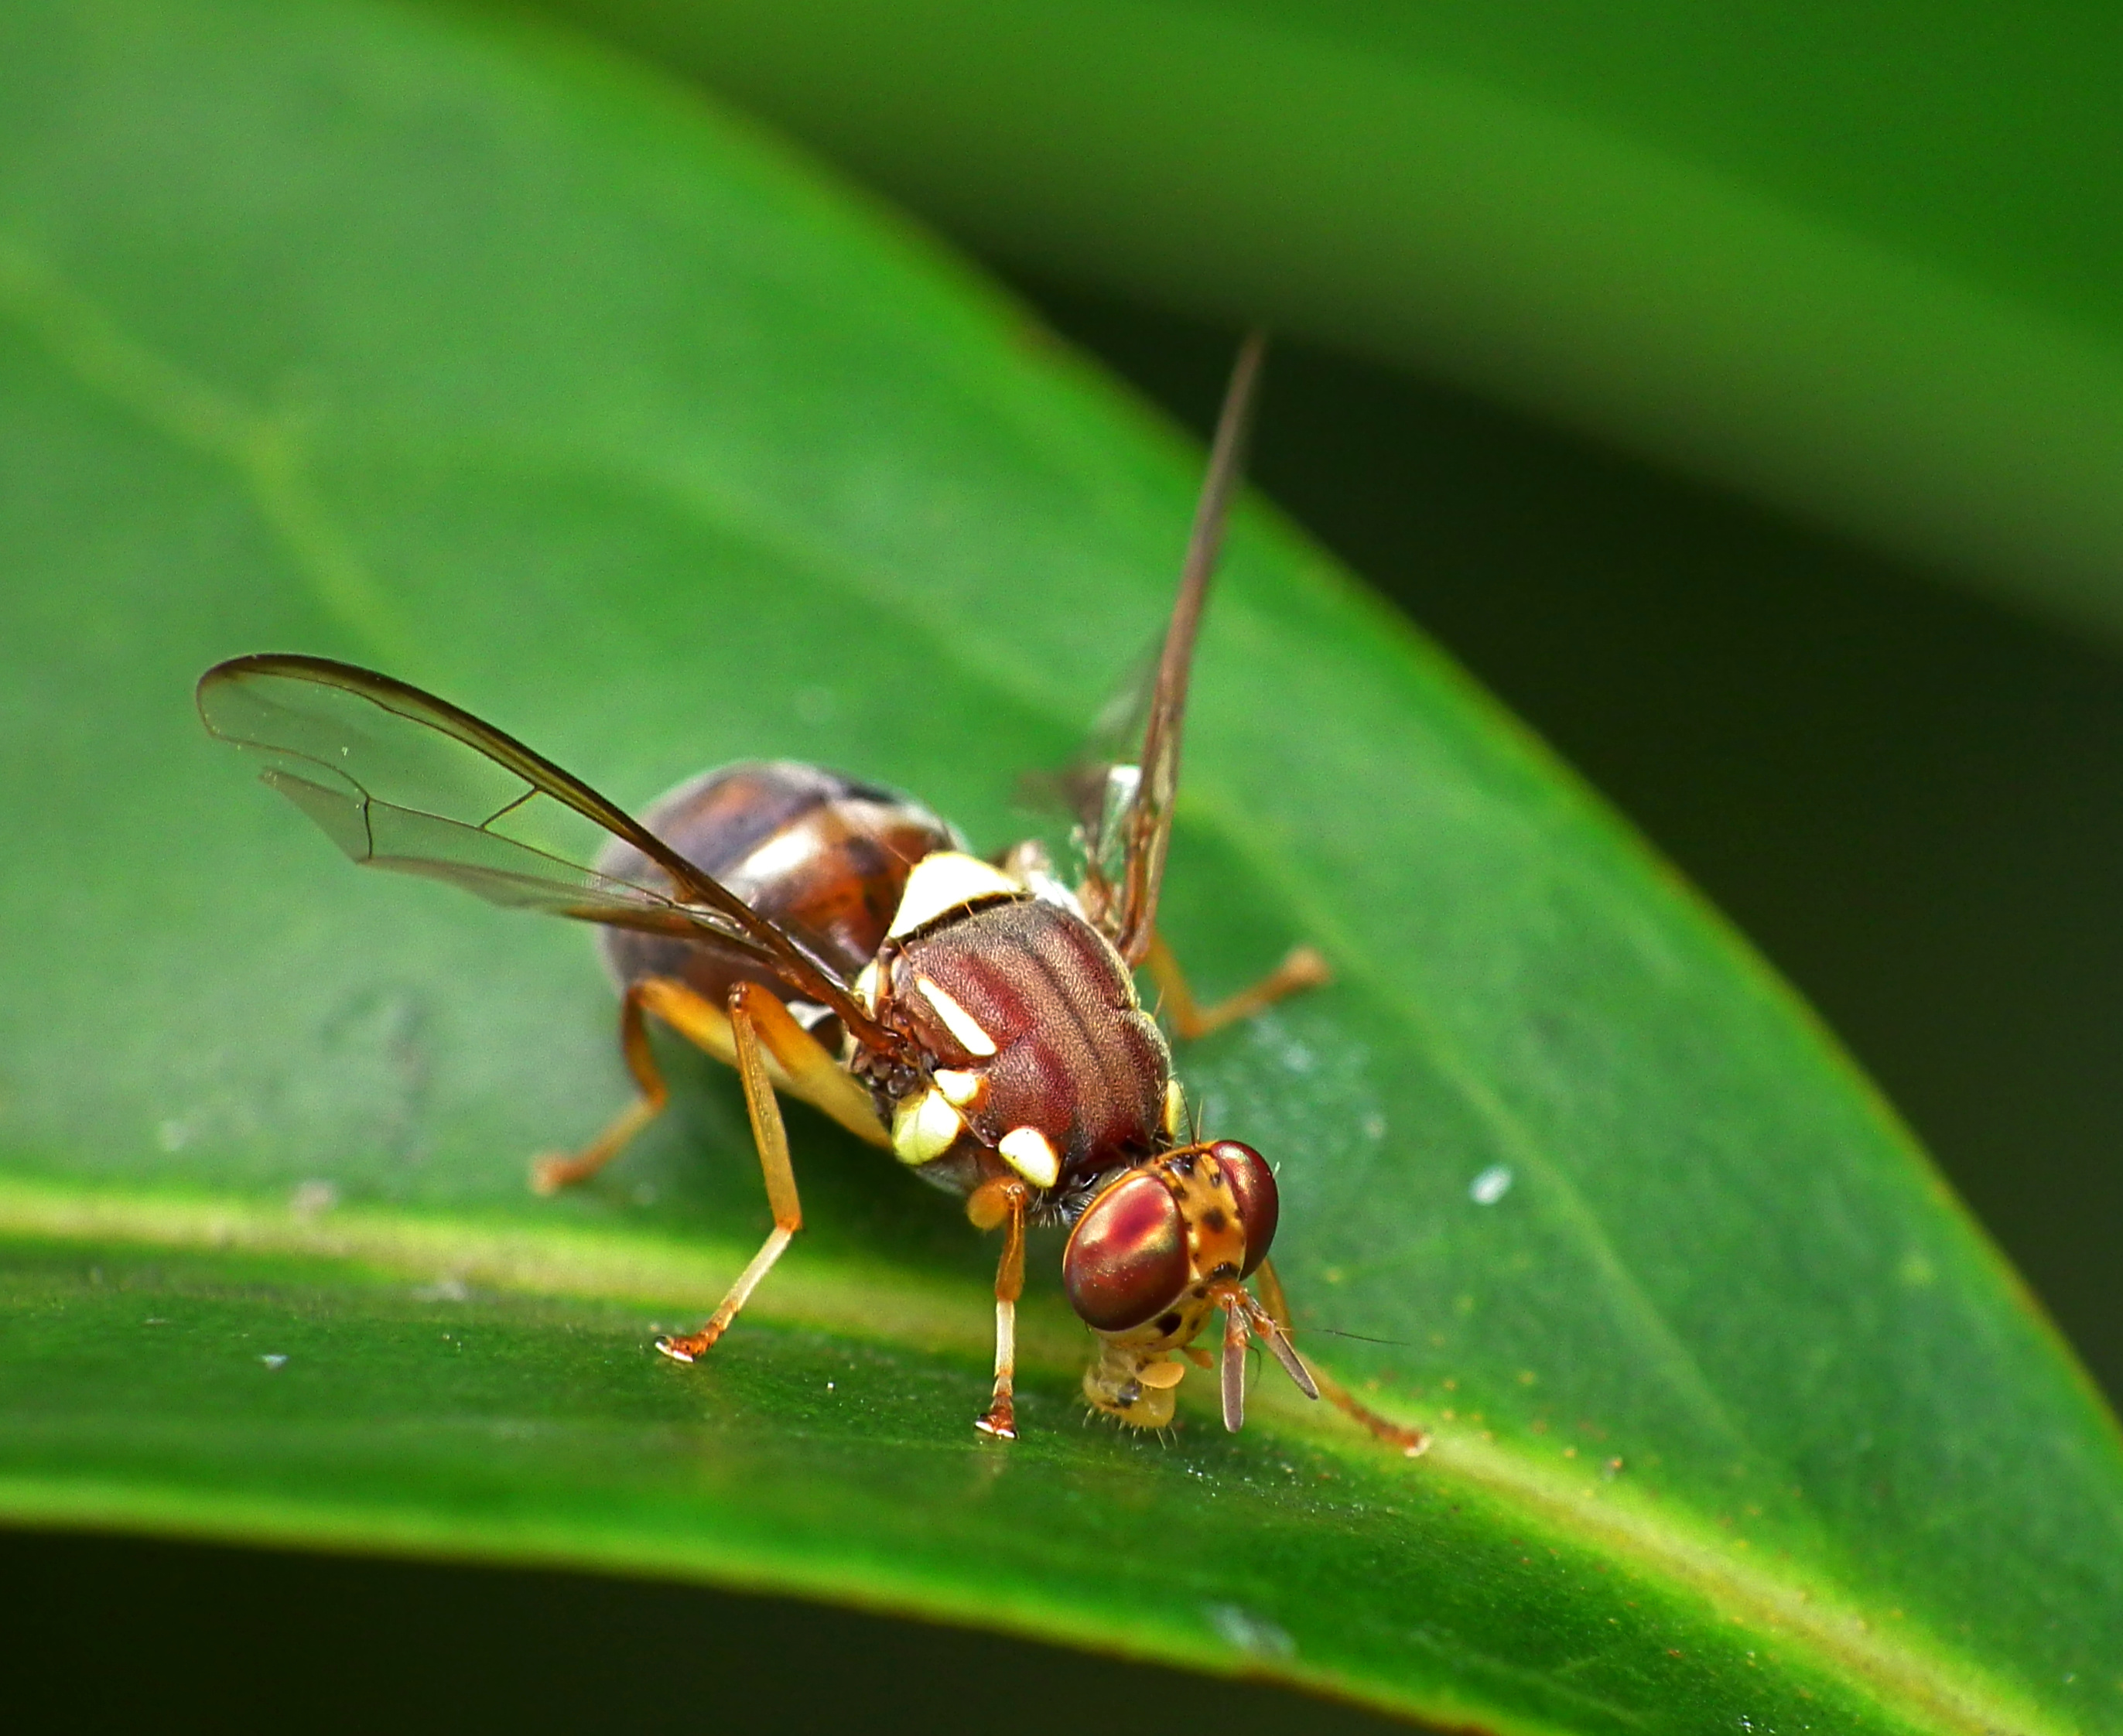Fruit fly: (162, 371, 1421, 1478)
